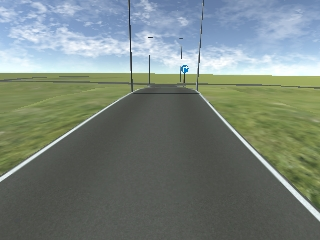right: (180, 64, 190, 73)
